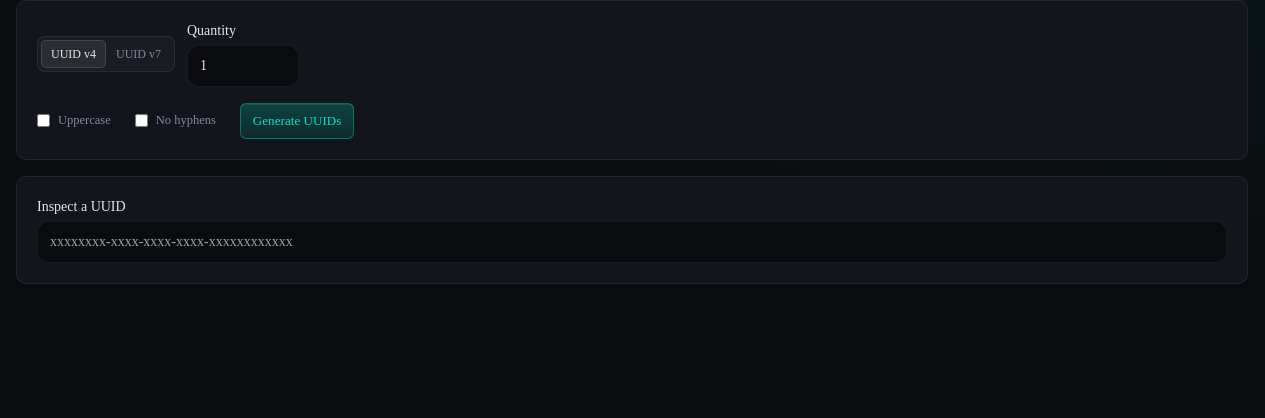
UuidGeneratorClient › generates v4 UUIDs by default and allows switching to v7
Click the button "Generate UUIDs": (297, 121) [240,103,354,138]
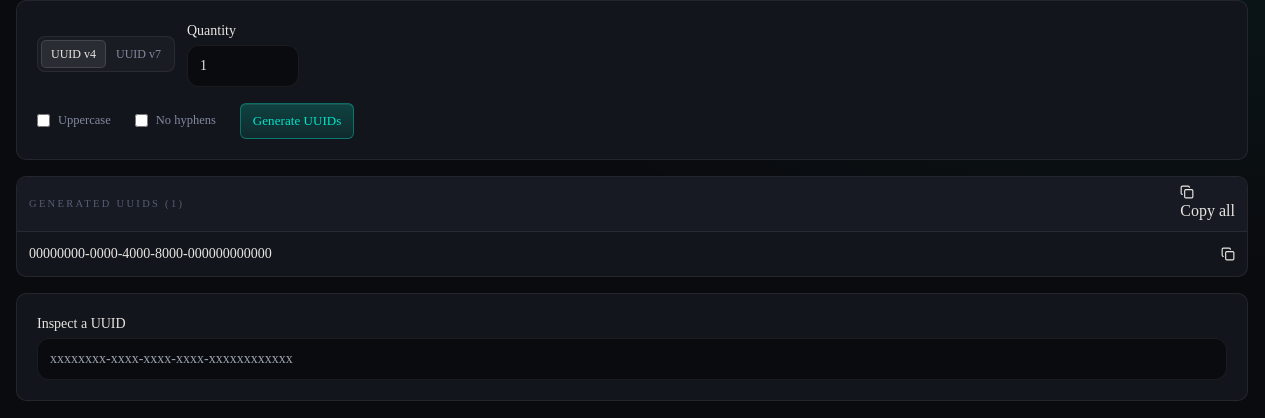
Check: the text "00000000-0000-4000-8000-000000000000" is shown, box [29,244,272,264]
Click the button "UUID v7": (138, 54) [106,40,171,68]
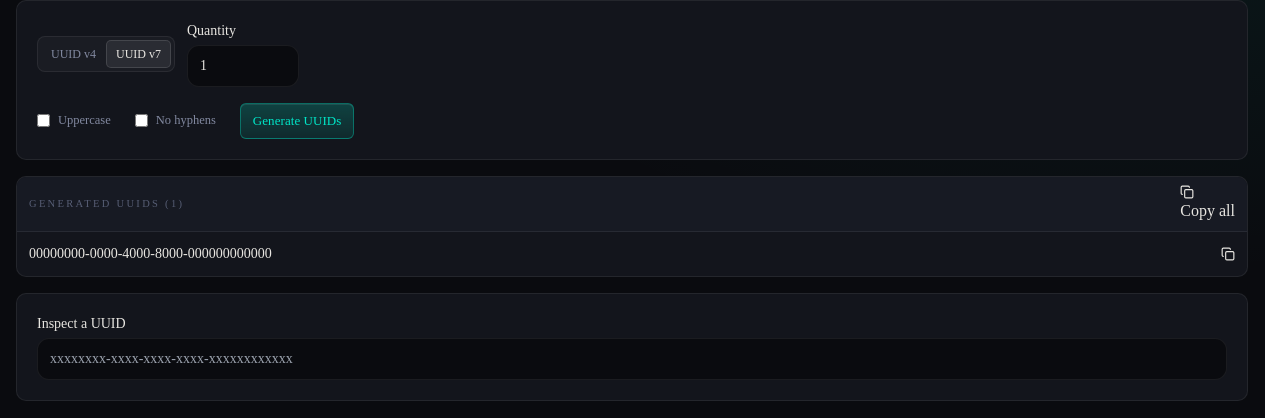
Click the button "Generate UUIDs": (297, 121) [240,103,354,138]
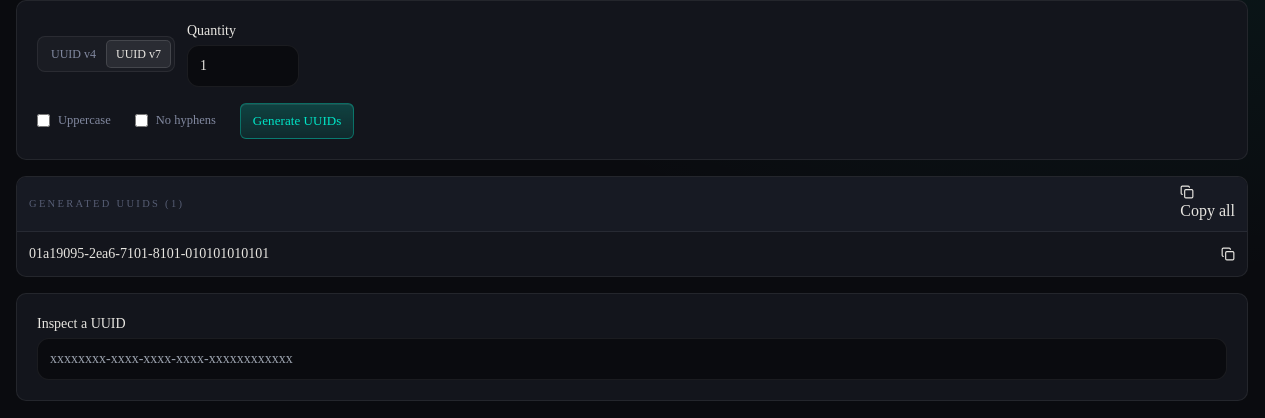
Check: the list named "Generated UUIDs" reads "01a19095-2ea6-7101-8101-010101010101", box [29,246,269,260]
